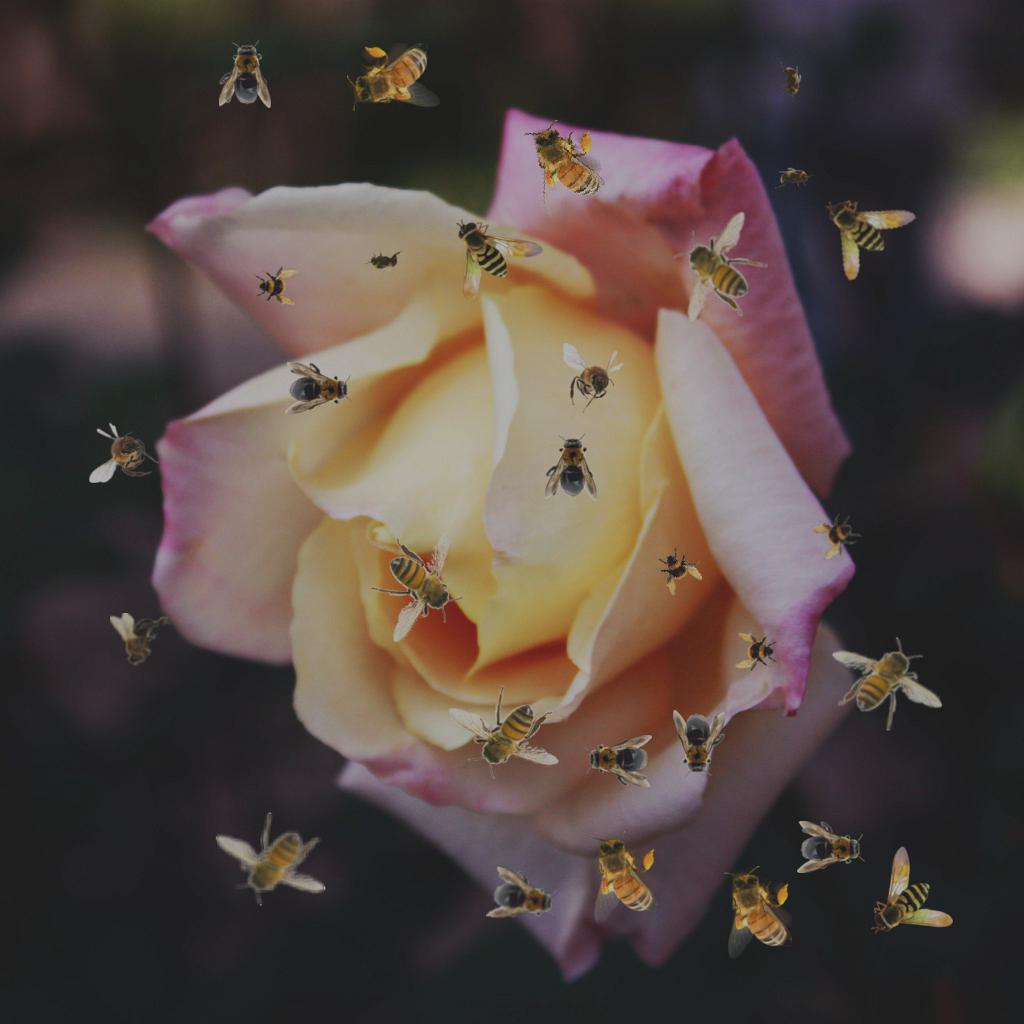Bee: (448, 685, 559, 779), (215, 812, 326, 906), (370, 532, 464, 643), (832, 637, 943, 731), (674, 211, 768, 322), (823, 185, 927, 283), (522, 112, 610, 219), (871, 846, 953, 934), (456, 219, 544, 301), (347, 43, 440, 111), (590, 831, 658, 924), (724, 866, 792, 959), (486, 865, 562, 929), (563, 343, 624, 413), (89, 422, 159, 483), (806, 506, 868, 568), (648, 538, 710, 600), (219, 40, 271, 108), (584, 735, 652, 787), (673, 710, 725, 778), (797, 821, 865, 873), (545, 433, 597, 501), (285, 362, 353, 414), (110, 613, 172, 666), (254, 263, 298, 307), (735, 631, 779, 675), (364, 250, 404, 272), (780, 62, 802, 102), (775, 167, 815, 189)
